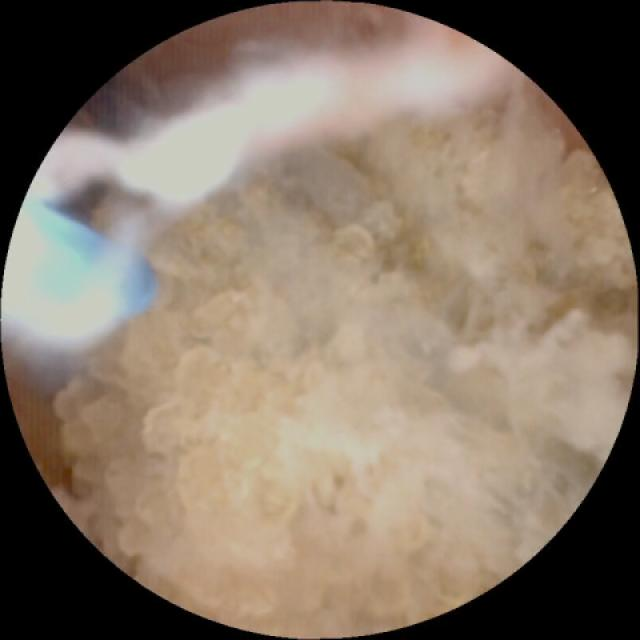fiber: (8, 206, 150, 331)
stone: (59, 108, 624, 622)
